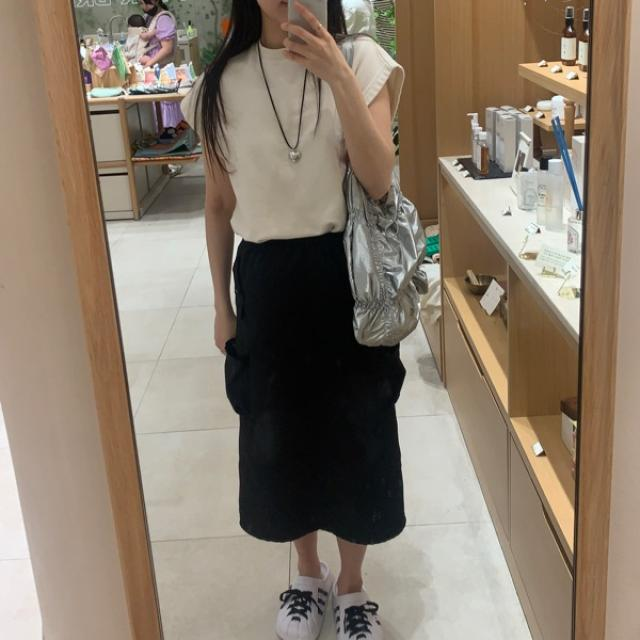shortsleeve: (178, 36, 406, 238)
skirt: (226, 231, 408, 544)
